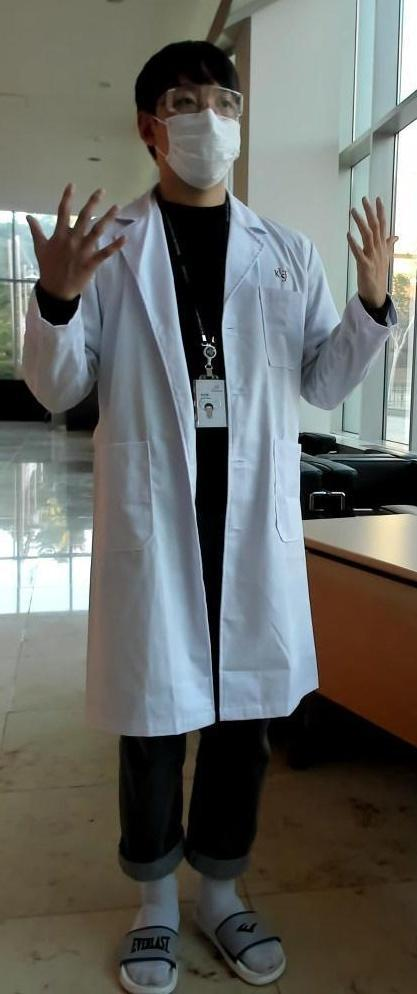lab_coat: (108, 240, 312, 725)
